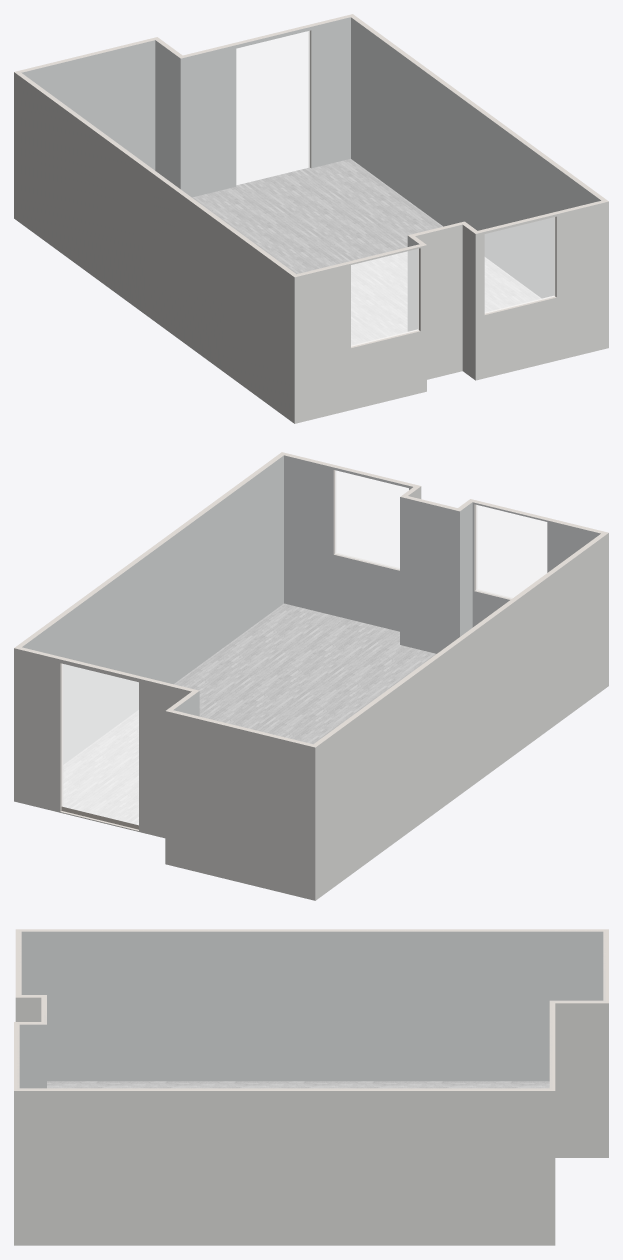
Rendered from erb_lab_202.glb.
The picture shows the model from 3 angles, top to bottom: view 1: azimuth 30°, elevation 25°; view 2: azimuth 150°, elevation 25°; view 3: azimuth 270°, elevation 25°; orthographic projection. The views are drawn at different scales.
Parts seen in each view (by area): view 1: ceiling_Other_2, wall_4, wall_22, floor_Other_0, wall_28, wall_3, wall_1, door_0, door_2, wall_26, window_1, window_3 (+12 smaller); view 2: ceiling_Other_2, wall_4, wall_22, floor_Other_0, wall_8, wall_9, wall_16, door_0, door_2, wall_10, window_1, window_0 (+10 smaller); view 3: wall_6, ceiling_Other_2, wall_18, wall_5, floor_Other_0, ceiling_Other_0, wall_24, wall_19, wall_23, wall_2, wall_29, wall_13 (+1 smaller).
Boxes of the visible parts, x1,y1,x2,y2 form: ceiling_Other_2: [45, 18, 600, 274]; wall_4: [14, 72, 294, 423]; wall_22: [351, 17, 600, 298]; floor_Other_0: [192, 159, 540, 345]; wall_28: [180, 17, 350, 197]; wall_3: [475, 201, 608, 380]; wall_1: [294, 245, 426, 423]; door_0: [236, 31, 309, 184]; door_2: [236, 31, 309, 184]; wall_26: [21, 40, 155, 170]; window_1: [485, 217, 554, 313]; window_3: [485, 217, 554, 313]; ceiling_Other_2: [23, 456, 599, 725]; wall_4: [315, 533, 608, 900]; wall_22: [22, 455, 283, 764]; floor_Other_0: [62, 603, 436, 824]; wall_8: [165, 711, 315, 900]; wall_9: [14, 648, 191, 838]; wall_16: [284, 455, 412, 631]; door_0: [62, 664, 138, 824]; door_2: [62, 664, 138, 824]; wall_10: [400, 497, 459, 653]; window_1: [335, 470, 408, 568]; window_0: [476, 505, 546, 598]; wall_6: [14, 1091, 555, 1245]; ceiling_Other_2: [17, 932, 551, 1088]; wall_18: [21, 931, 603, 1081]; wall_5: [555, 1003, 608, 1157]; floor_Other_0: [47, 1081, 549, 1088]; ceiling_Other_0: [553, 932, 605, 1001]; wall_24: [19, 1024, 46, 1088]; wall_19: [17, 929, 607, 931]; wall_23: [14, 1088, 554, 1090]; wall_2: [15, 997, 41, 1021]; wall_29: [549, 1001, 555, 1090]; wall_13: [15, 929, 21, 997].
Size of the model in its own units: 6.65 by 2.97 by 10.35.
Materials: 25 (1 with a texture image).
